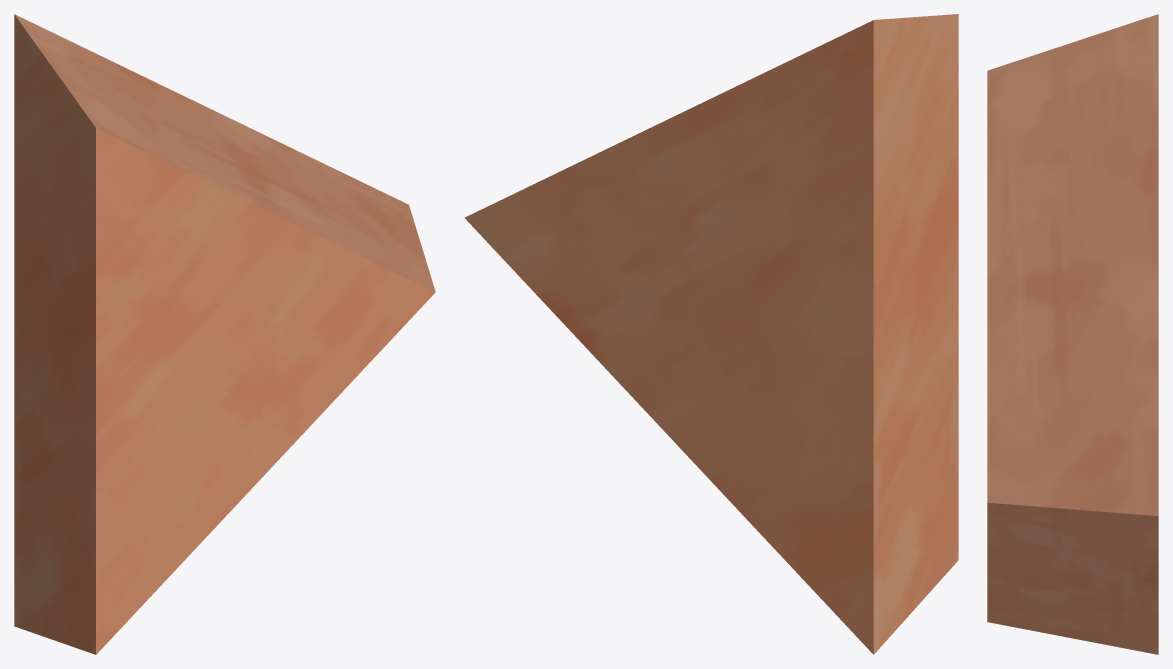
File: wall2_shutter_s11.fbx
The picture shows the model from 3 angles, left to right: view 1: azimuth 30°, elevation 25°; view 2: azimuth 150°, elevation 25°; view 3: azimuth 270°, elevation 25°; orthographic projection. The views are drawn at different scales.
Visible parts, largest first — view 1: wall2_shutter_s11; view 2: wall2_shutter_s11; view 3: wall2_shutter_s11.
Boxes of the visible parts, x1=… form: wall2_shutter_s11: x1=14, y1=14, x2=435, y2=654; wall2_shutter_s11: x1=464, y1=14, x2=958, y2=654; wall2_shutter_s11: x1=987, y1=14, x2=1158, y2=654.
Size of the model in its own units: 2.78 by 4.12 by 1.
